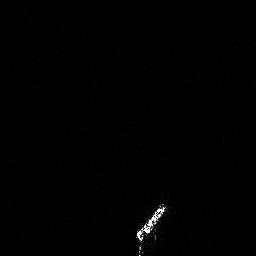ship: (132, 198, 170, 256)
